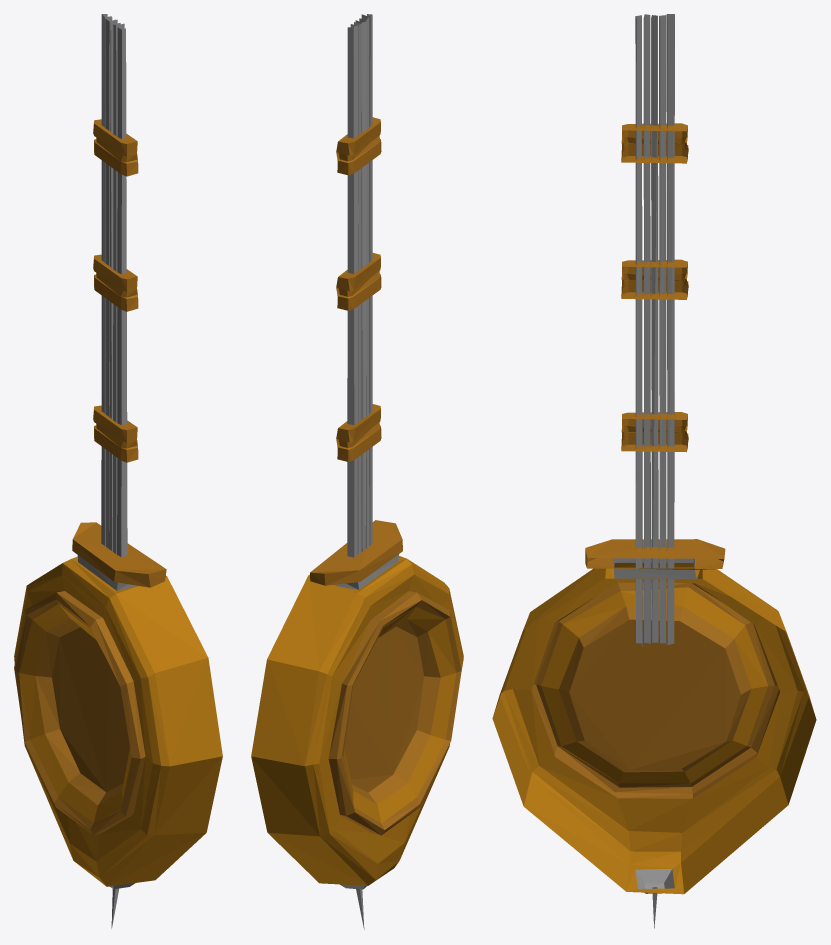
Rendered from SFI_Clock_Props_001.fbx.
The picture shows the model from 3 angles, left to right: view 1: azimuth 30°, elevation 25°; view 2: azimuth 150°, elevation 25°; view 3: azimuth 270°, elevation 25°; orthographic projection.
Parts seen in each view (by area): view 1: SFI_Clock_Props_001; view 2: SFI_Clock_Props_001; view 3: SFI_Clock_Props_001.
Part boxes in pixels (x1=…): SFI_Clock_Props_001: x1=14, y1=14, x2=222, y2=928; SFI_Clock_Props_001: x1=251, y1=14, x2=463, y2=929; SFI_Clock_Props_001: x1=492, y1=14, x2=816, y2=928.
Bounding box in the file's own units: 6.42 × 77.72 × 24.89.
